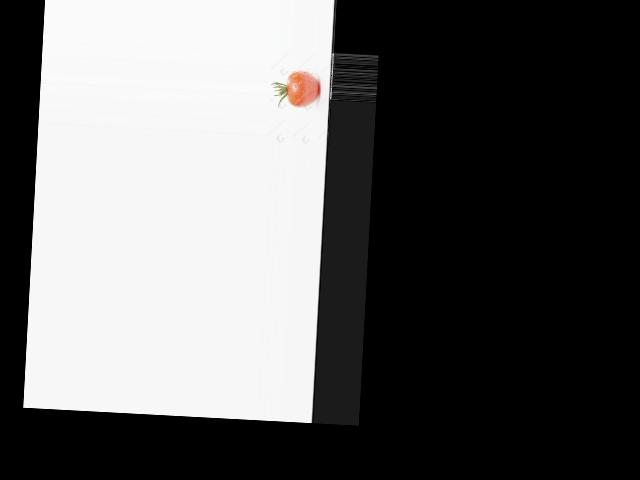tomato: (286, 70, 320, 108)
